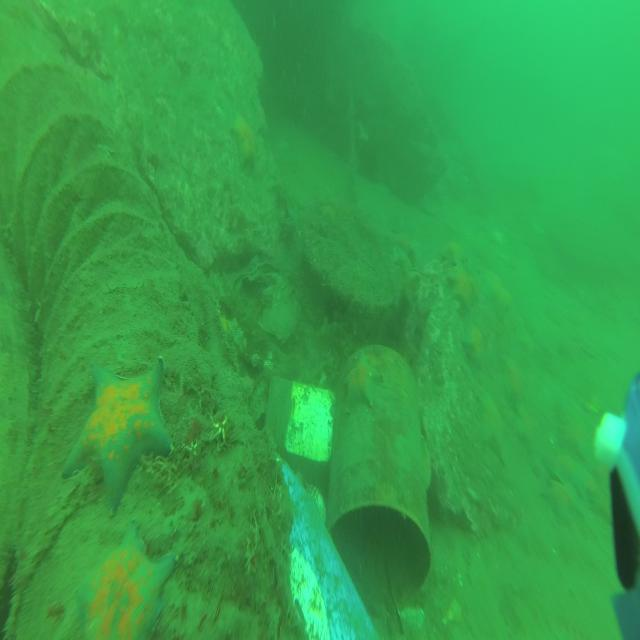starfish: (63, 356, 173, 517), (74, 523, 179, 640), (547, 444, 609, 511), (543, 475, 588, 536), (558, 405, 600, 463), (476, 390, 506, 460), (343, 356, 381, 410), (229, 109, 258, 170), (448, 264, 479, 313), (498, 353, 528, 398), (487, 271, 516, 316), (461, 323, 485, 368), (442, 237, 470, 269), (520, 402, 535, 446)
